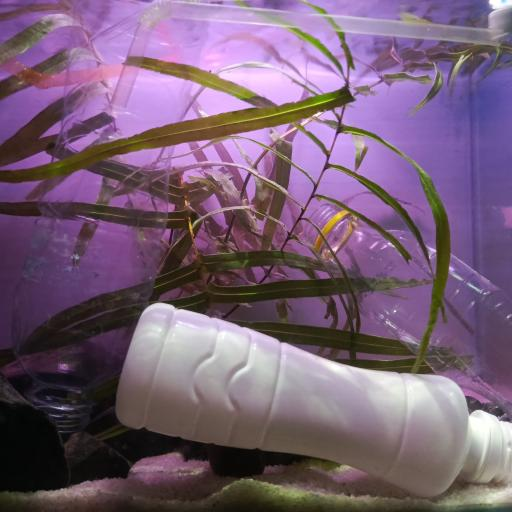bottle_cap: (488, 4, 512, 39)
plastic_bottle: (12, 1, 205, 431), (113, 300, 512, 496), (301, 201, 512, 416)
plastic_straw: (106, 0, 512, 109), (1, 48, 198, 91)
